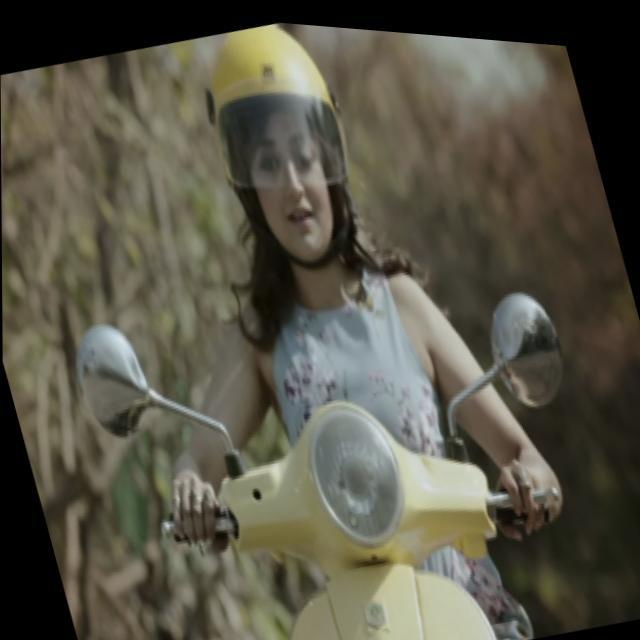Helmet: (196, 26, 362, 279)
